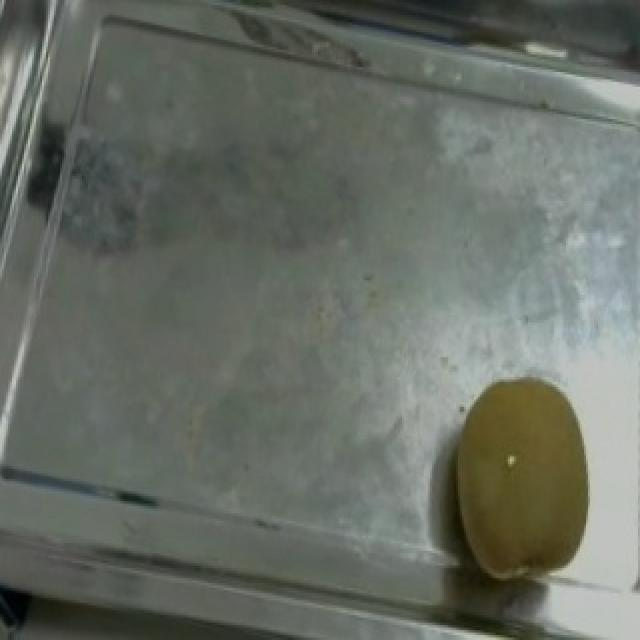Fruit: (422, 364, 610, 598)
